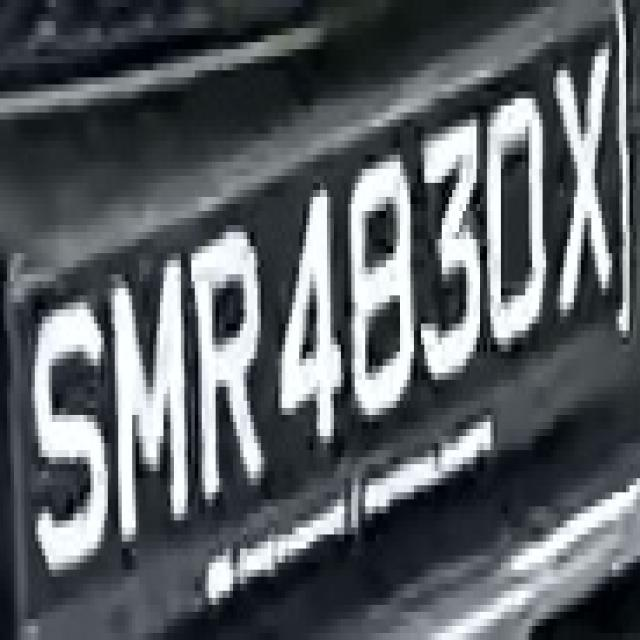0: (477, 84, 546, 380)
3: (410, 112, 480, 401)
4: (261, 176, 341, 443)
8: (341, 141, 417, 415)
M: (101, 253, 198, 556)
R: (192, 204, 272, 527)
S: (17, 310, 108, 562)
X: (536, 28, 605, 387)
